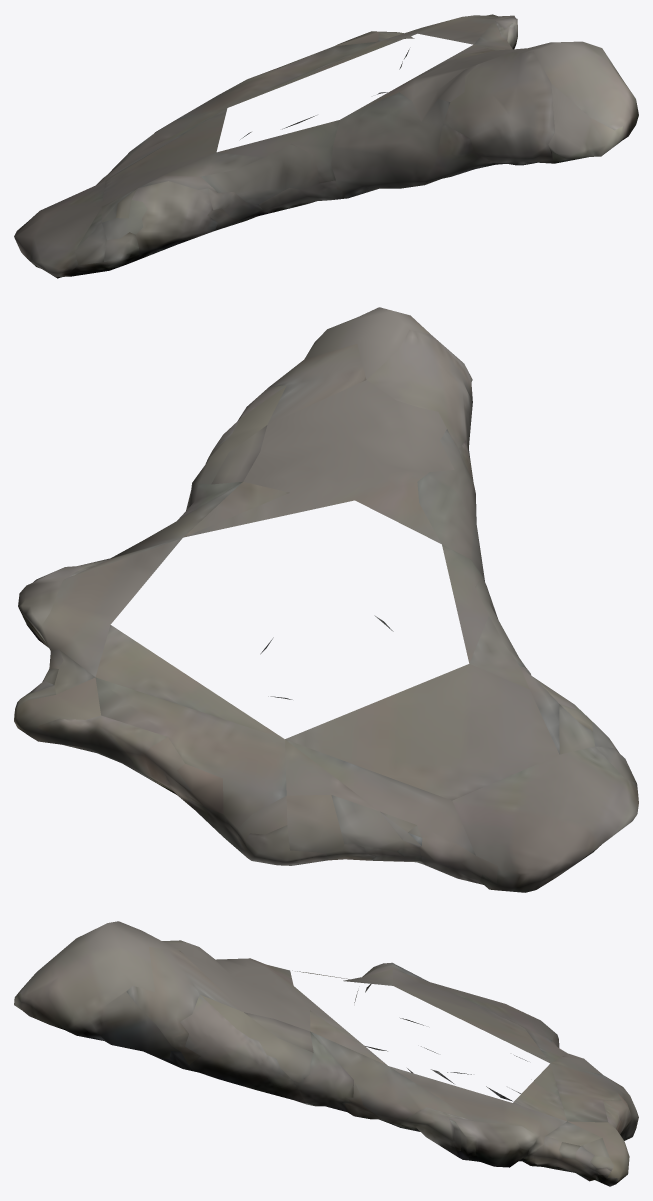
File: hall.glb
The picture shows the model from 3 angles, top to bottom: view 1: azimuth 30°, elevation 25°; view 2: azimuth 150°, elevation 25°; view 3: azimuth 270°, elevation 25°; orthographic projection. The views are drawn at different scales.
Bounding box in the file's own units: 0.6121 × 0.3272 × 0.6307.
Materials: 1 (1 with a texture image).
